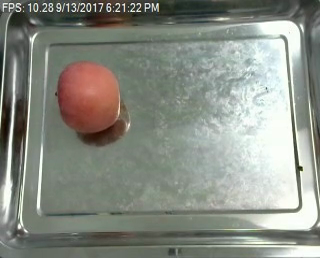Apple: (53, 59, 125, 136)
